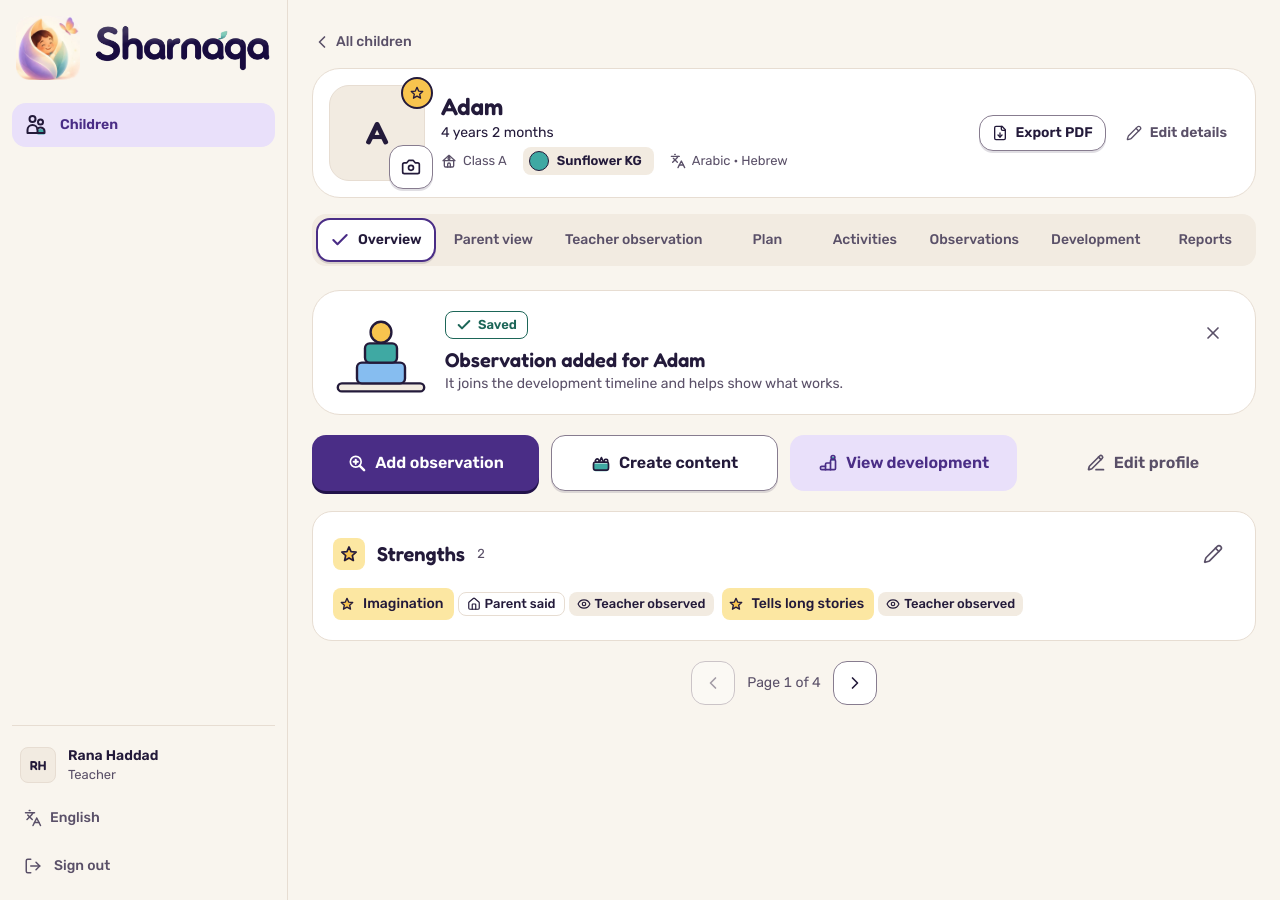
ChildProfilePage (Overview) › celebrates a just-saved observation once, and Close removes it
Check: the message with test id "saved-celebration" shows "Saved", box [478, 317, 517, 332]
Click the button named "Close" at point(1213, 333), box [1191, 311, 1235, 355]
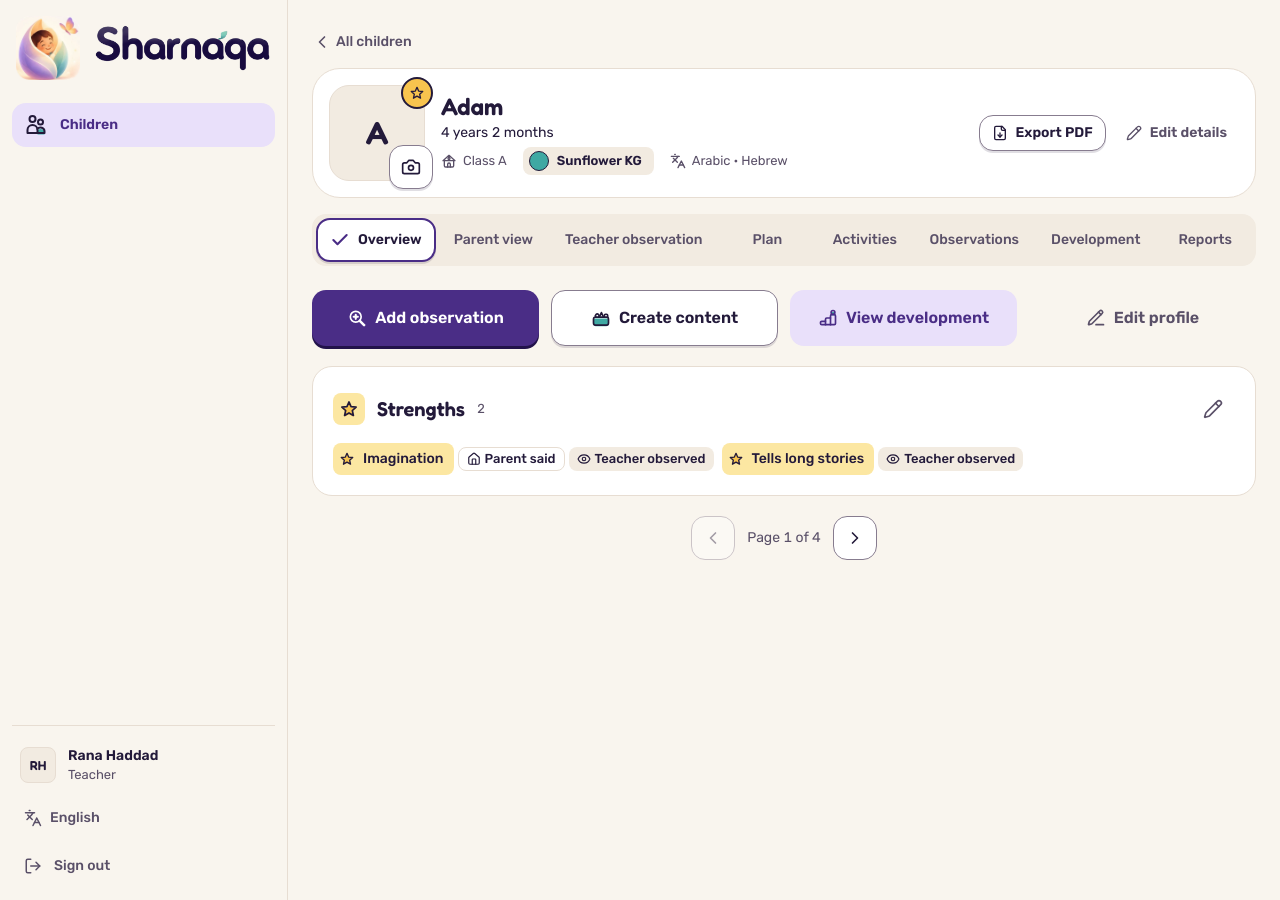
Check: the message with test id "saved-celebration" is gone
